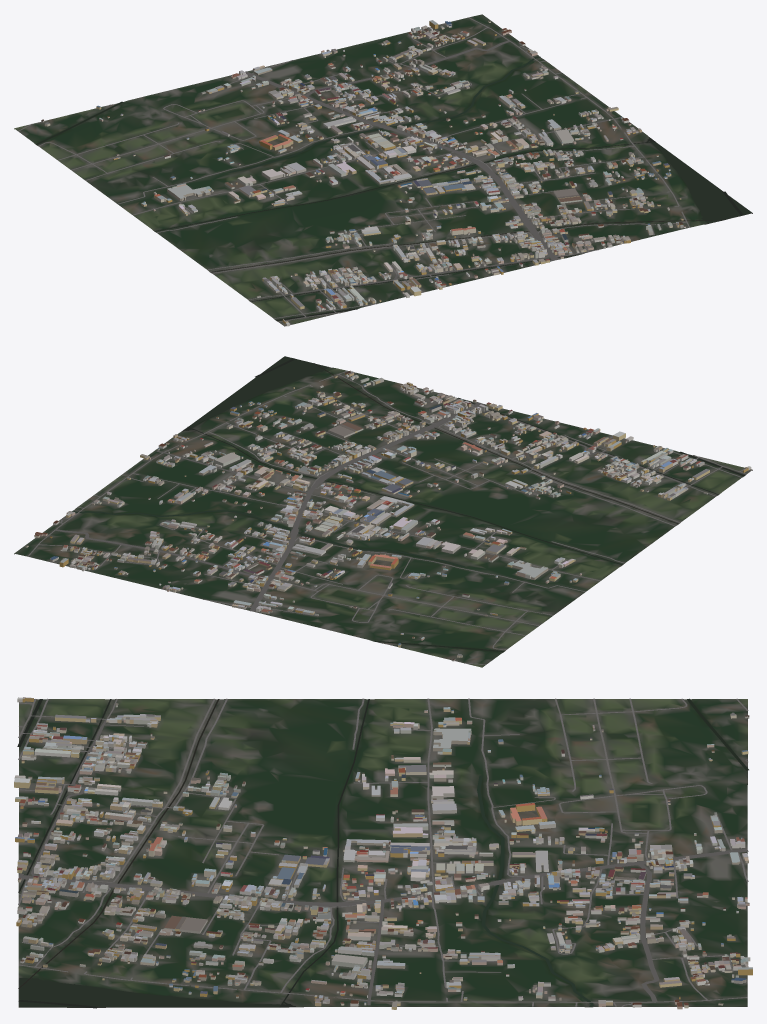
3 views of the same model, one above another, from view 1: azimuth 30°, elevation 25°; view 2: azimuth 150°, elevation 25°; view 3: azimuth 270°, elevation 25° (orthographic). The views are drawn at different scales.
Parts seen in each view (by area): view 1: ground, buildings, roads, water; view 2: ground, buildings, roads, water; view 3: ground, buildings, roads, water.
Boxes of the visible parts, box(x1,y1,x2,y2) form: ground: box(14, 14, 752, 326); buildings: box(41, 20, 685, 326); roads: box(18, 17, 689, 324); water: box(35, 56, 751, 320); ground: box(14, 361, 752, 667); buildings: box(25, 370, 751, 661); roads: box(27, 370, 746, 664); water: box(72, 356, 744, 651); ground: box(18, 699, 747, 1007); buildings: box(14, 697, 752, 1009); roads: box(18, 698, 748, 1006); water: box(17, 698, 748, 1008).
Size of the model in its own units: 1413 by 19.7 by 1420.
